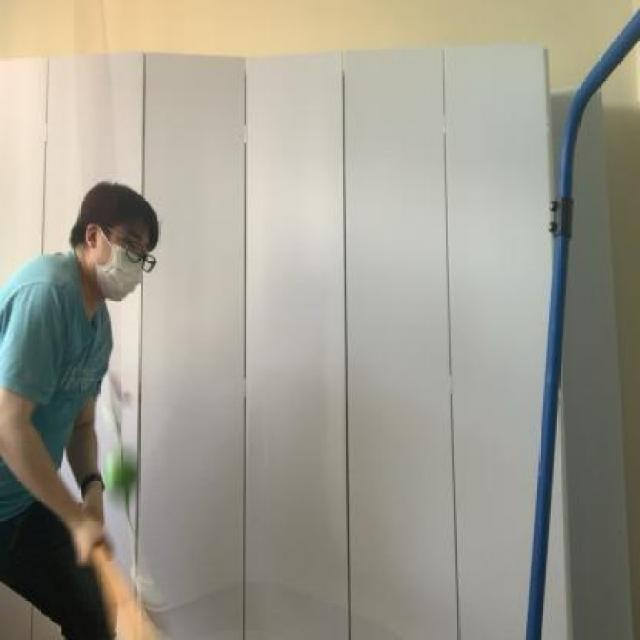baseball: (98, 440, 144, 500)
